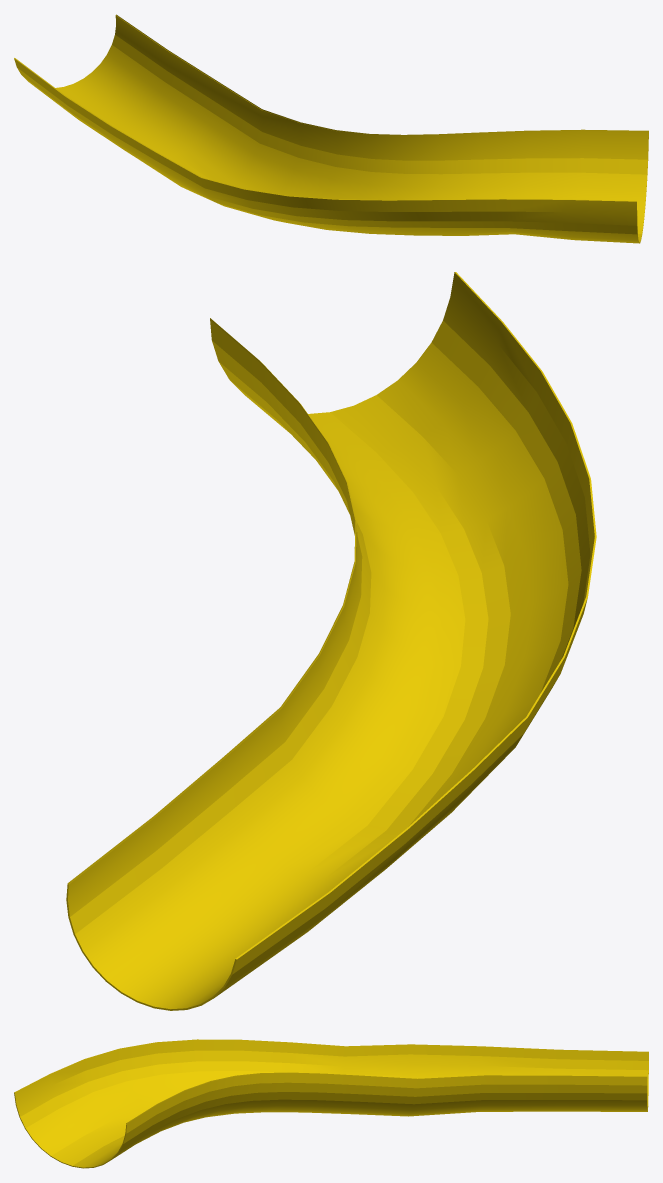
Rendered from çıkış.fbx.
The picture shows the model from 3 angles, top to bottom: view 1: azimuth 30°, elevation 25°; view 2: azimuth 150°, elevation 25°; view 3: azimuth 270°, elevation 25°; orthographic projection. The views are drawn at different scales.
Parts seen in each view (by area): view 1: çıkış; view 2: çıkış; view 3: çıkış.
Boxes of the visible parts, <box> form: çıkış: <box>14,14,648,243</box>; çıkış: <box>66,272,596,1010</box>; çıkış: <box>14,1039,648,1168</box>.
Size of the model in its own units: 343 by 118 by 682.
